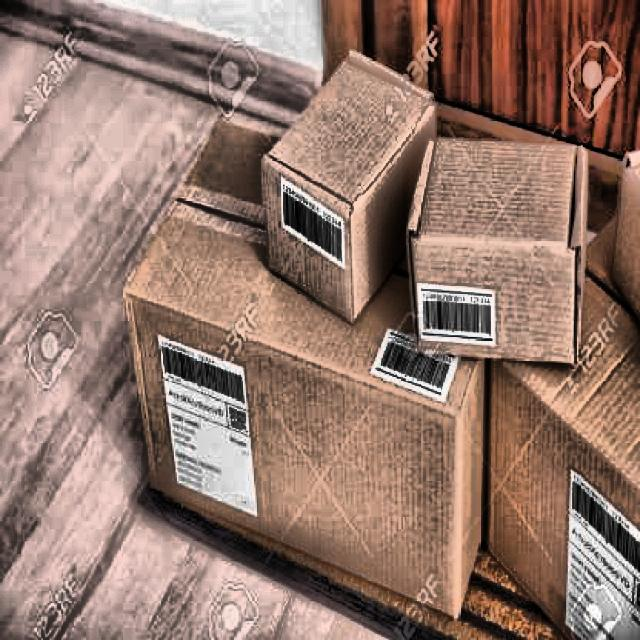Cardbox: (88, 69, 500, 640), (414, 86, 600, 368), (251, 51, 414, 321)
